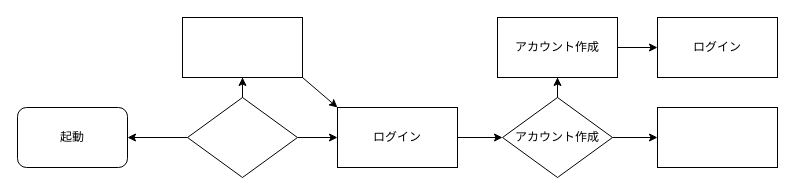
The diagram is 795 pixels wide and 195 high, and some of its shapes have lost their labels. The shapes that lost their labels are listed below. From the top down, each one's centre as x and y in pixels, then its label:
At point 242,47: "ウェルカム画面起動".
At point 242,137: "ウェルカム画面".
